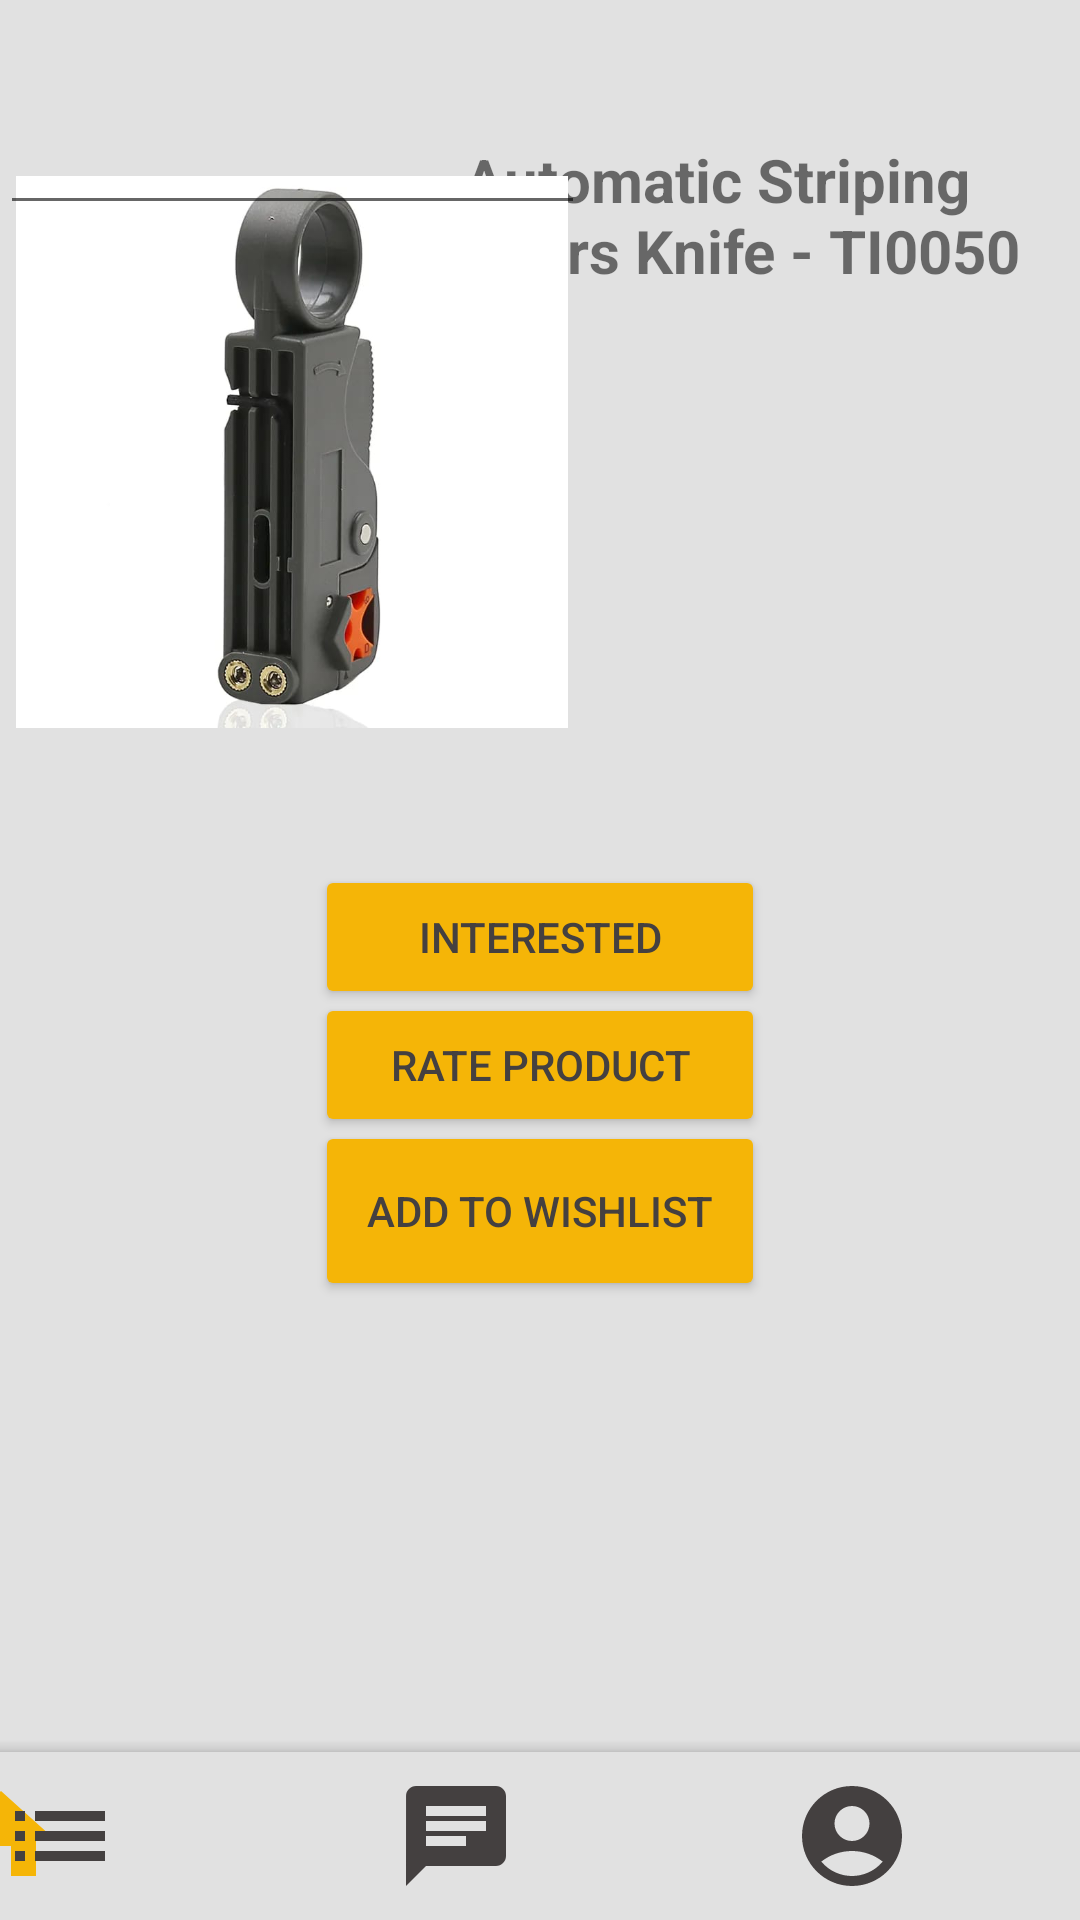

Named icons in this screenshot (1080×1920) and their centers, (x=x, y=y):
account circle: (x=852, y=1836)
chat: (x=456, y=1836)
